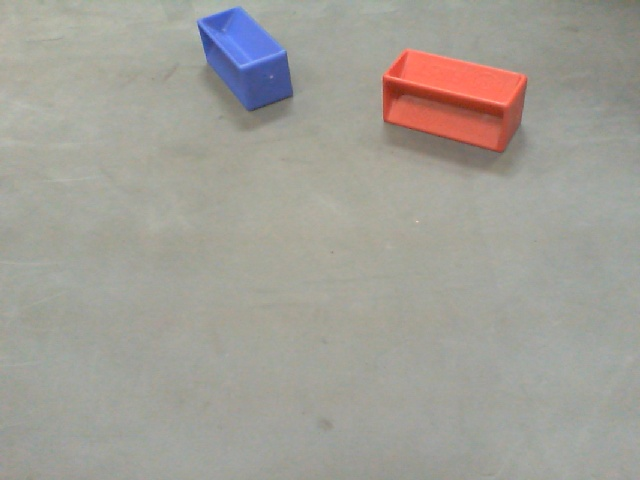BlueSample: (192, 6, 293, 114)
RedSample: (380, 46, 528, 156)
